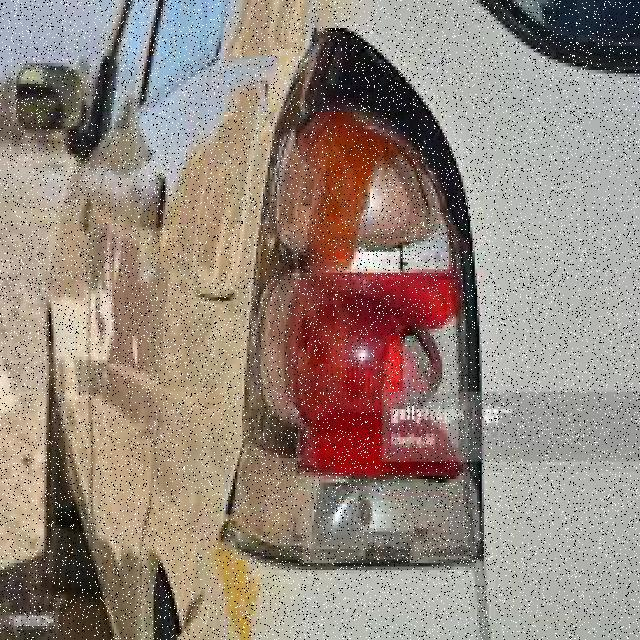Taillight-Damage: (212, 28, 512, 619)
